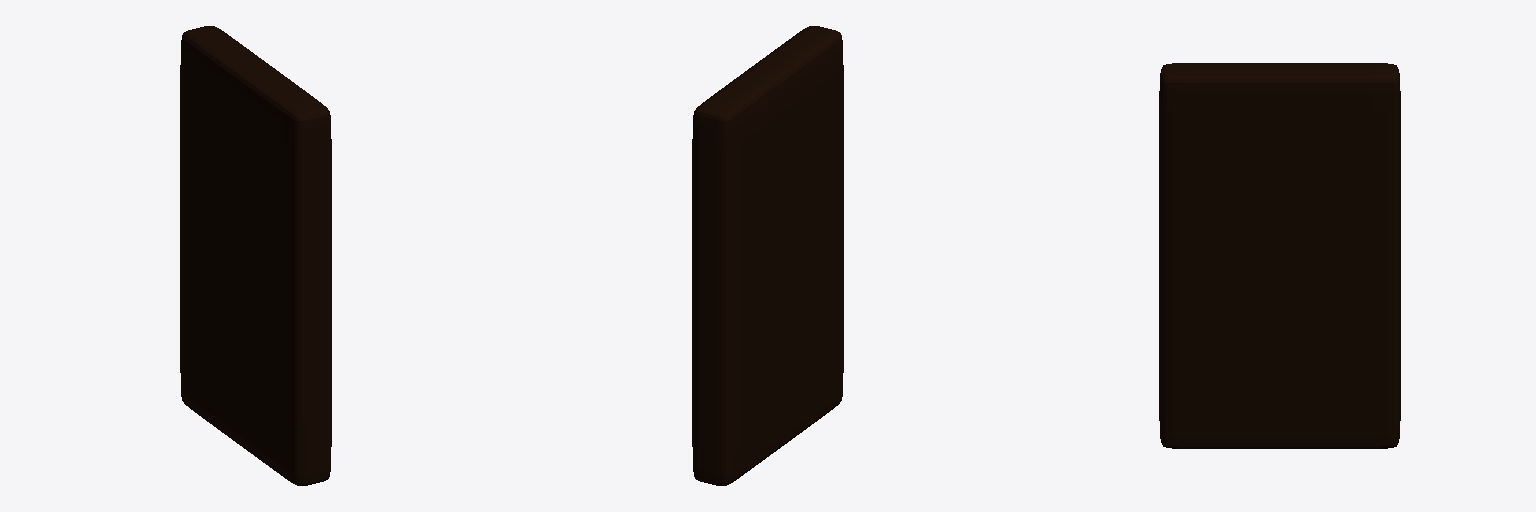
The model's file is wall_paneling.obj.
3 renders of one model, left to right at view 1: azimuth 30°, elevation 25°; view 2: azimuth 150°, elevation 25°; view 3: azimuth 270°, elevation 25°, orthographic.
Visible parts, largest first — view 1: Cube.053; view 2: Cube.053; view 3: Cube.053.
Part boxes in pixels (left/top/right/bottom): Cube.053: left=180, top=26, right=331, bottom=485; Cube.053: left=692, top=26, right=843, bottom=485; Cube.053: left=1159, top=63, right=1400, bottom=448.
Bounding box in the file's own units: 0.1359 × 1.22 × 0.7146.